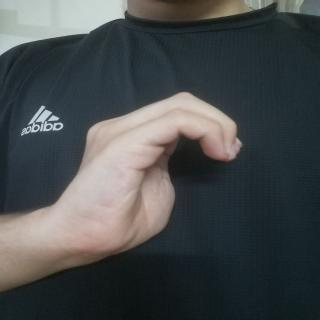HAA: (61, 93, 248, 257)
